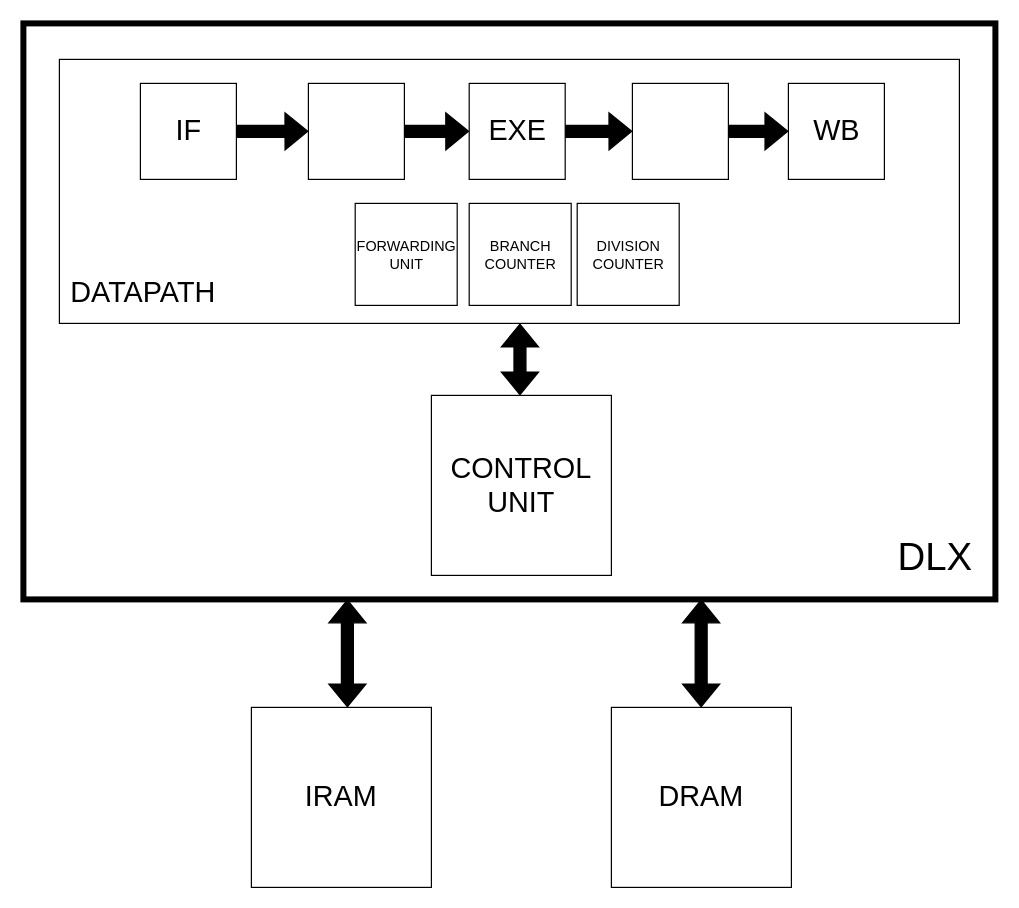
This 1019x908 diagram has some shape labels left out. Here are the shapes that lost their labels. From the top down, the box of each, then its label:
(307, 82, 404, 179): ID
(631, 82, 728, 179): MEM
